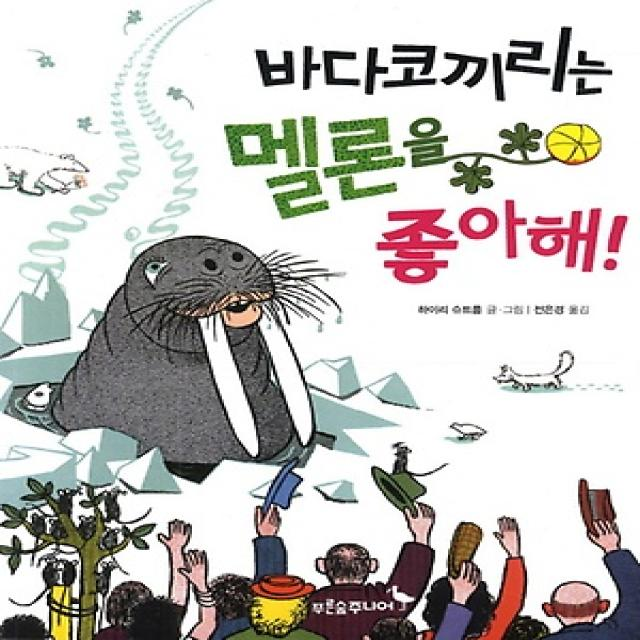walrus: (69, 219, 395, 484)
